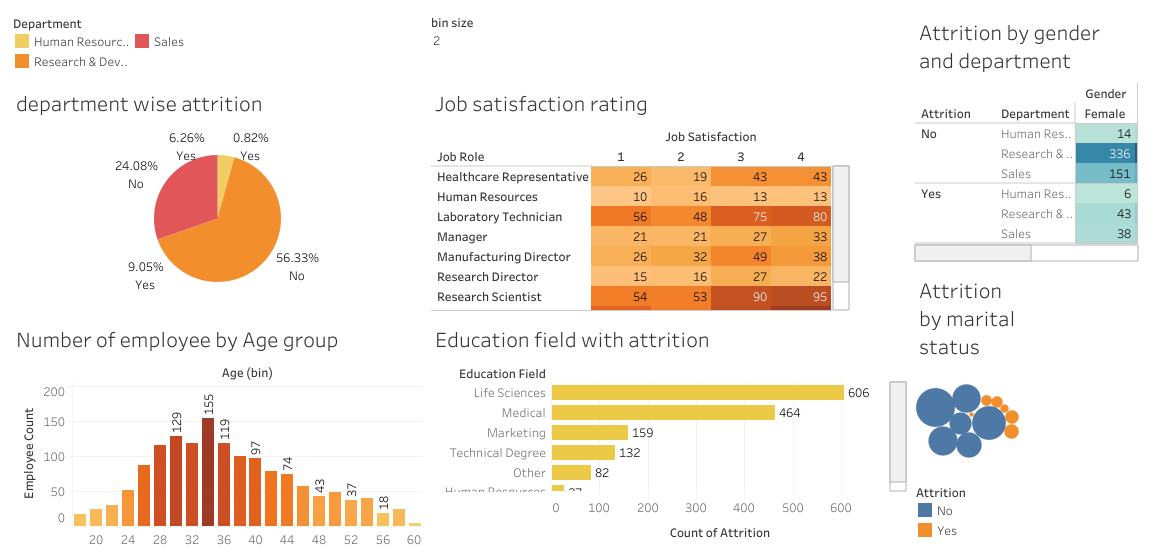

The dashboard page shown, as its layout file describes it:
{"tool":"tableau","page":{"name":"Dashboard 1","canvas":[1000,1000],"units":"permille","ordinal":0},"visuals":[{"type":"legend","title":"department wise attrition","param":"[federated.1fp7cg01dhmqlj18w2gm91f9wpi7].[none:Department:nk]","box":[7,13.5,363.8,126.7]},{"type":"parameter","param":"[Parameters].[Parameter 1]","box":[370.8,13.5,420.3,126.7]},{"type":"worksheet","title":"Attrition by gender and department","mark":"Square","rows":["Attrition","Department"],"cols":["Gender"],"box":[791.1,13.5,201.9,434.1]},{"type":"worksheet","title":"department wise attrition","mark":"Pie","box":[7,140.2,363.6,423.2]},{"type":"worksheet","title":"Job satisfaction rating","mark":"Square","rows":["JobRole"],"cols":["JobSatisfaction"],"box":[370.6,140.2,420.5,423.2]},{"type":"worksheet","title":"Attrition by marital status","mark":"Circle","box":[791.1,447.6,201.9,376.7]},{"type":"worksheet","title":"Number of employee by Age group","mark":"Automatic","rows":["EmployeeCount"],"cols":["Age (bin)"],"box":[7,563.4,363.6,423.1]},{"type":"worksheet","title":"Education field with attrition","mark":"Automatic","rows":["EducationField"],"cols":["Attrition"],"box":[370.6,563.4,420.5,423.1]},{"type":"legend","title":"Attrition by marital status","param":"[federated.1fp7cg01dhmqlj18w2gm91f9wpi7].[none:Attrition:nk]","box":[791.1,824.3,201.9,111.5]}]}

Visuals, with their boxes on the dashboard's canvas, which has no fixed pixel size, in thousandths of its width and height (x1, y1, x2, y2). These are canvas units, not pixel positions in the 1149x559 screenshot, which may show the page scaled, cropped or inside an application window:
"department wise attrition" legend: rect(7, 14, 371, 140)
parameter: rect(371, 14, 791, 140)
"Attrition by gender and department" worksheet (Square marks): rect(791, 14, 993, 448)
"department wise attrition" worksheet (Pie marks): rect(7, 140, 371, 563)
"Job satisfaction rating" worksheet (Square marks): rect(371, 140, 791, 563)
"Attrition by marital status" worksheet (Circle marks): rect(791, 448, 993, 824)
"Number of employee by Age group" worksheet: rect(7, 563, 371, 986)
"Education field with attrition" worksheet: rect(371, 563, 791, 986)
"Attrition by marital status" legend: rect(791, 824, 993, 936)
